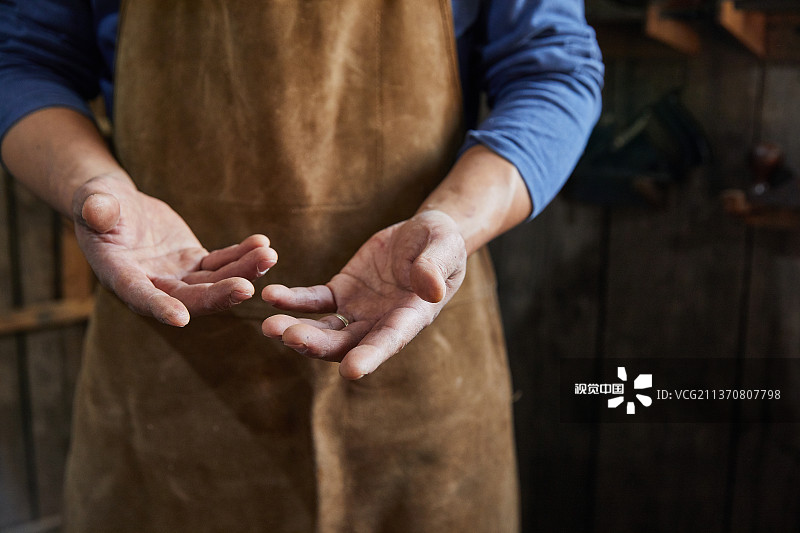no-phone: (252, 205, 490, 390), (61, 166, 275, 327)
